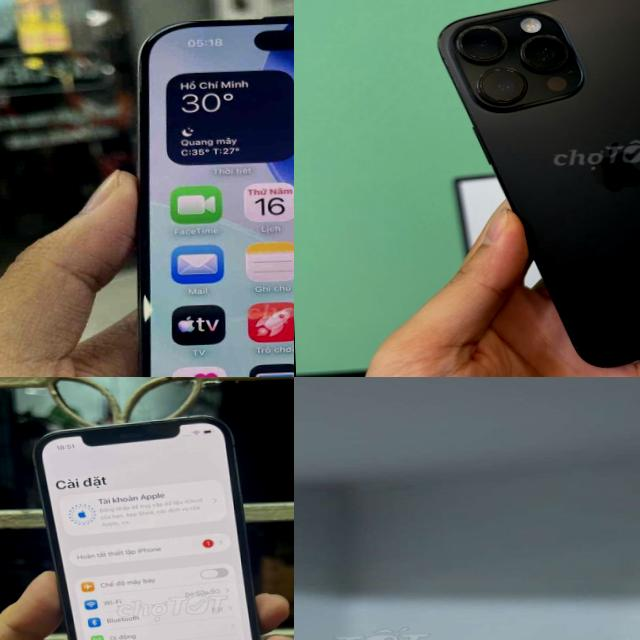gen_12_13: (34, 416, 260, 640)
gen_15: (108, 0, 294, 377)
gen_16: (438, 0, 640, 366)
